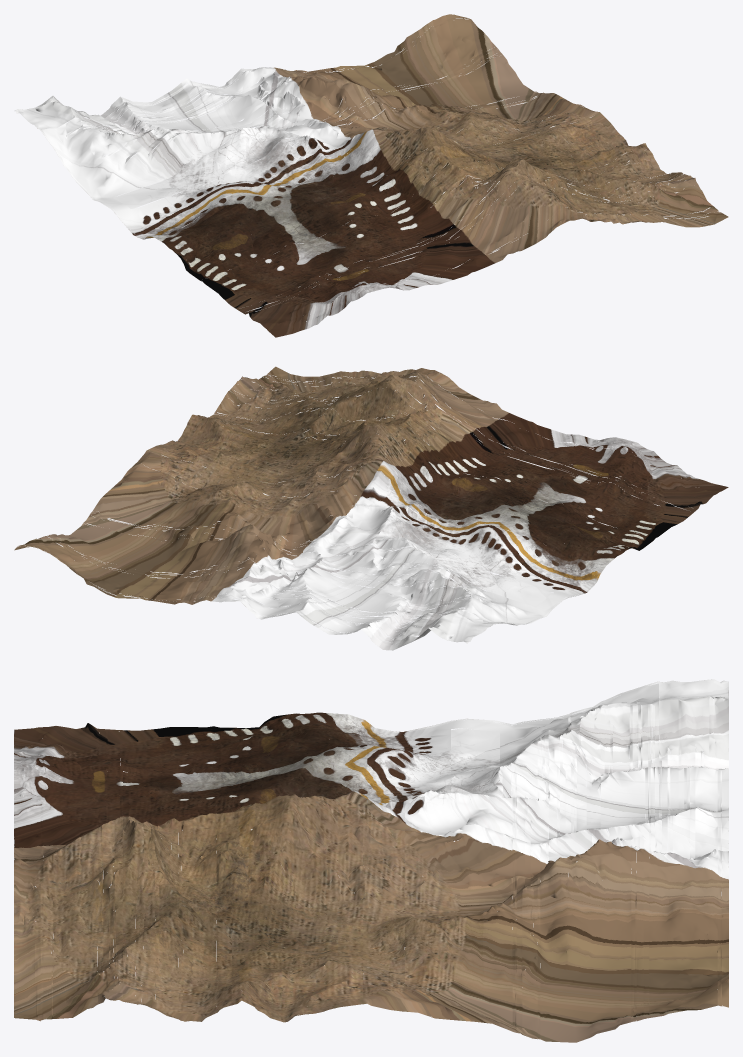
The model's file is mount.fbx.
3 renders of one model, top to bottom at view 1: azimuth 30°, elevation 25°; view 2: azimuth 150°, elevation 25°; view 3: azimuth 270°, elevation 25°, orthographic. The views are drawn at different scales.
Visible parts, largest first — view 1: Object_3, Object_2, Object_4, Object_5, Object_6; view 2: Object_4, Object_5, Object_2, Object_3, Object_6; view 3: Object_5, Object_2, Object_4, Object_3, Object_6.
Part boxes in pixels (<box>): Object_3: <box>200,149,728,337</box>; Object_2: <box>14,14,654,280</box>; Object_4: <box>42,77,719,313</box>; Object_5: <box>82,47,584,208</box>; Object_6: <box>52,18,502,141</box>; Object_4: <box>83,374,695,625</box>; Object_5: <box>43,463,552,618</box>; Object_2: <box>14,414,652,650</box>; Object_3: <box>197,366,728,540</box>; Object_6: <box>17,535,480,645</box>; Object_5: <box>403,703,649,1042</box>; Object_2: <box>216,679,728,1022</box>; Object_4: <box>35,683,659,1039</box>; Object_3: <box>14,723,232,1021</box>; Object_6: <box>631,696,722,1021</box>.
Size of the model in its own units: 100 by 17.41 by 100.
